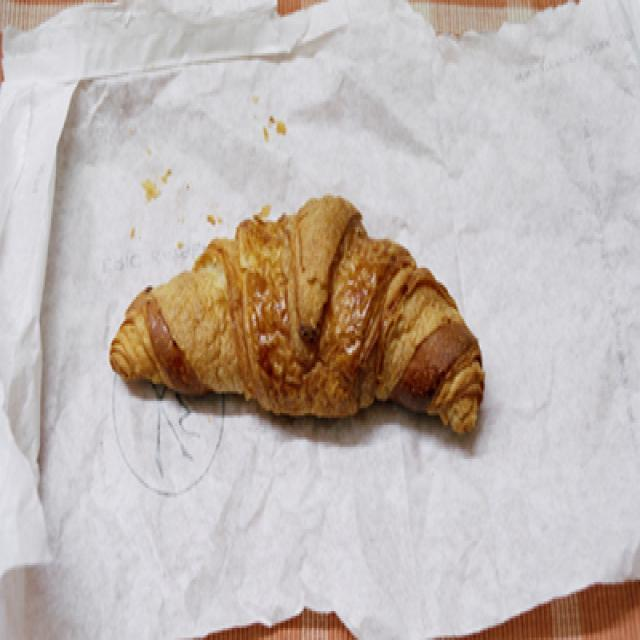Croissant: (113, 169, 487, 461)
